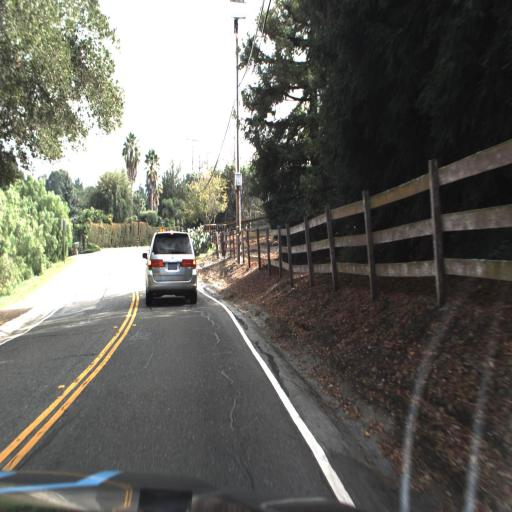car: (132, 216, 207, 329)
